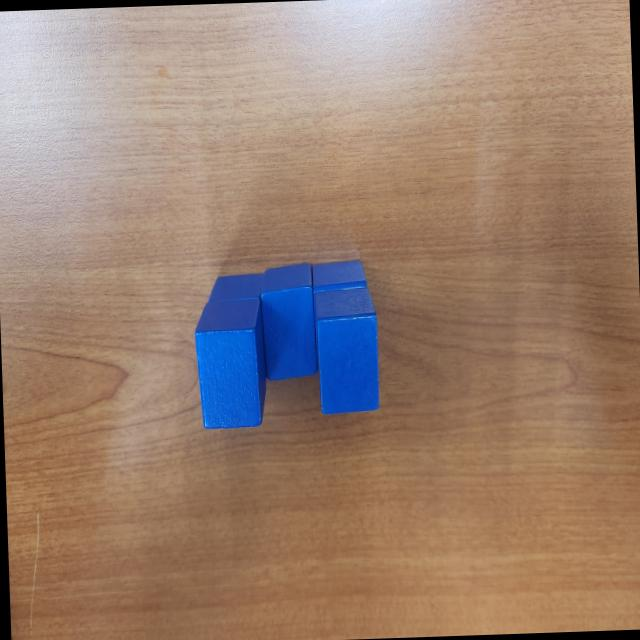blue: (192, 298, 268, 432), (312, 285, 381, 417), (258, 262, 318, 382), (312, 259, 371, 347), (206, 270, 264, 302)
